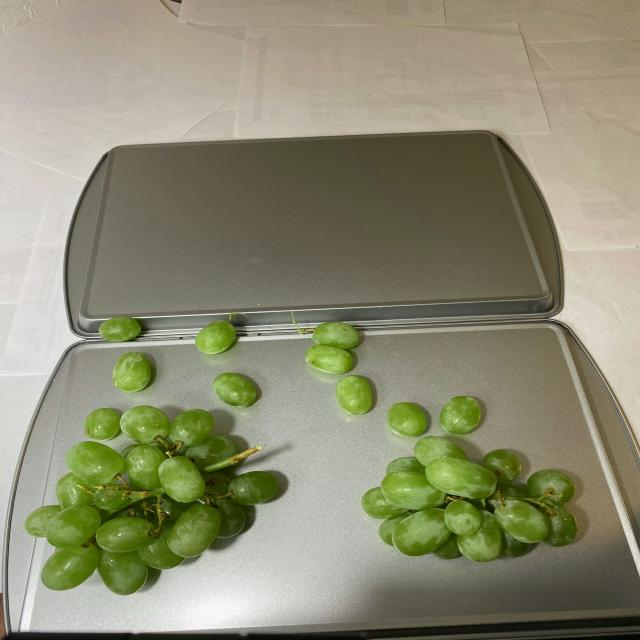Grapes: (23, 318, 590, 565)
